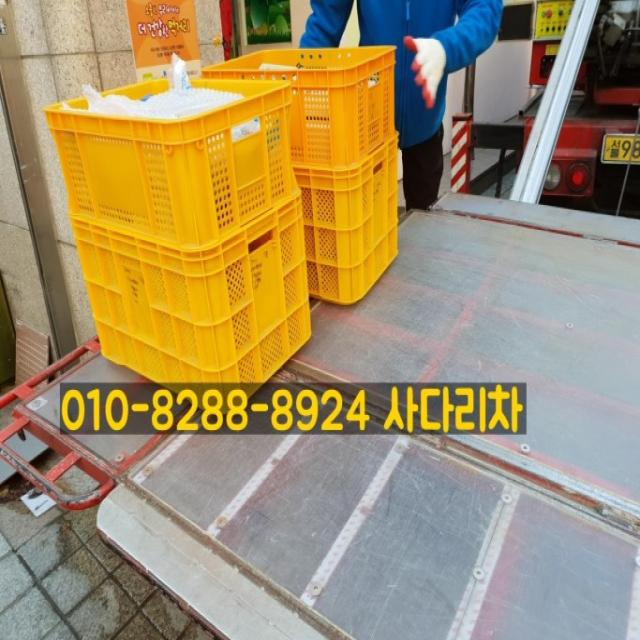basket: (207, 41, 411, 313), (70, 192, 313, 396), (43, 76, 296, 250)
